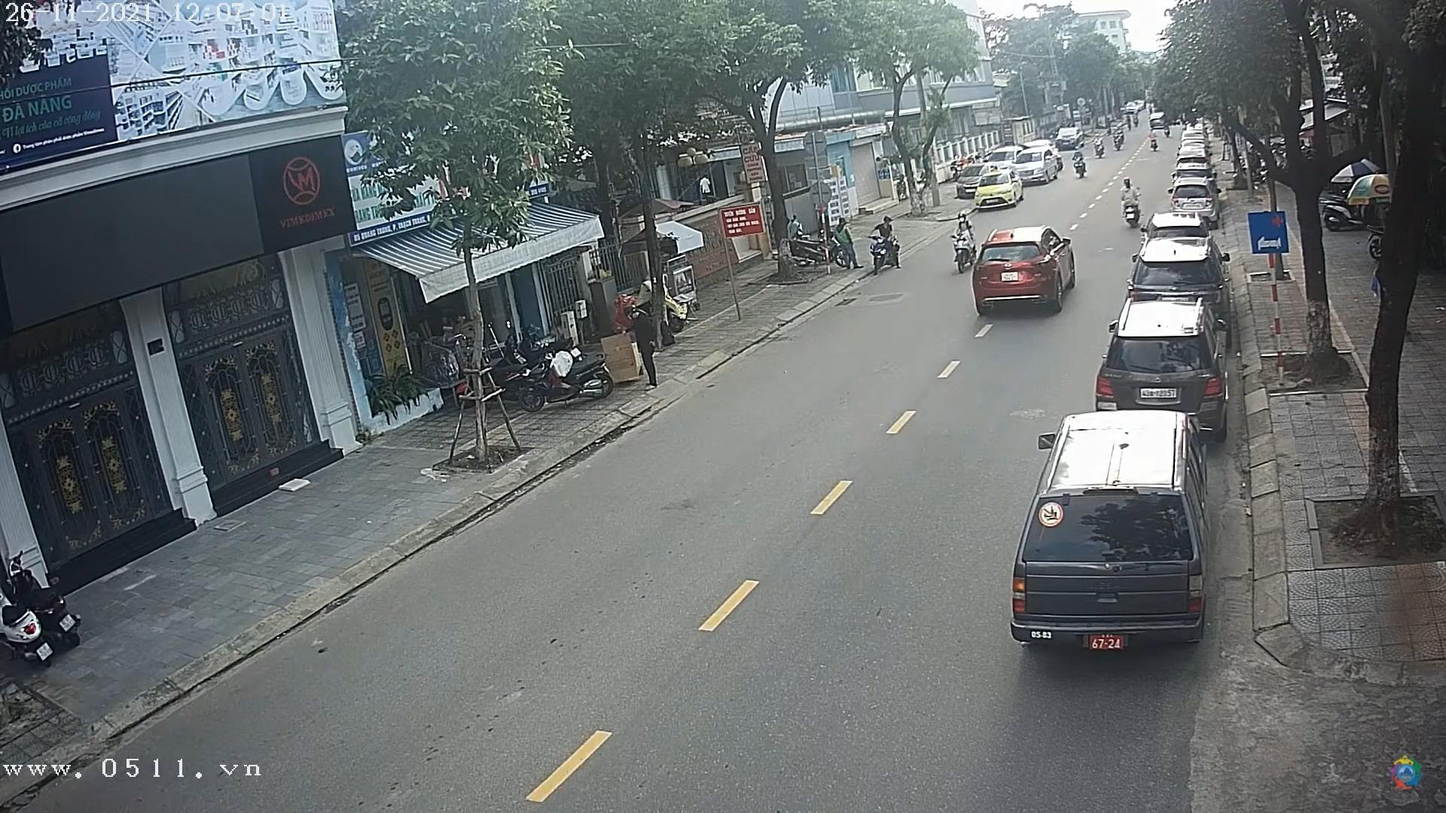car: (1006, 407, 1199, 644), (1096, 298, 1228, 420), (975, 228, 1082, 316), (1127, 237, 1229, 301)
motorbike: (868, 232, 903, 274), (953, 224, 977, 271)
